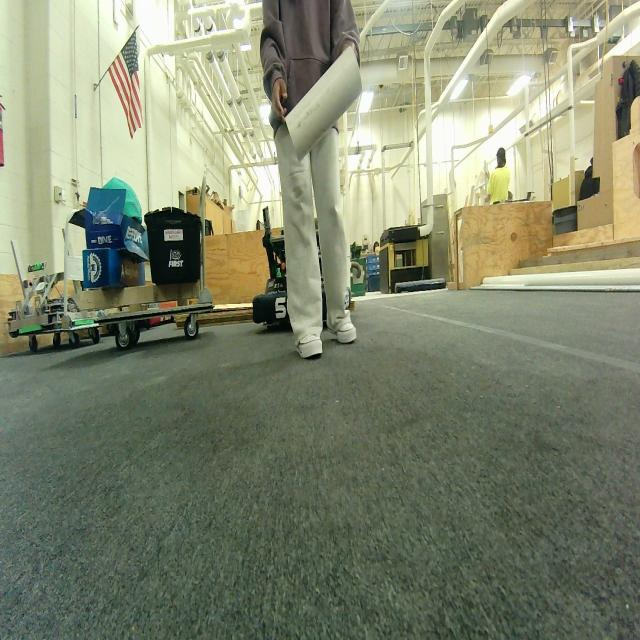coral: (271, 45, 366, 159)
